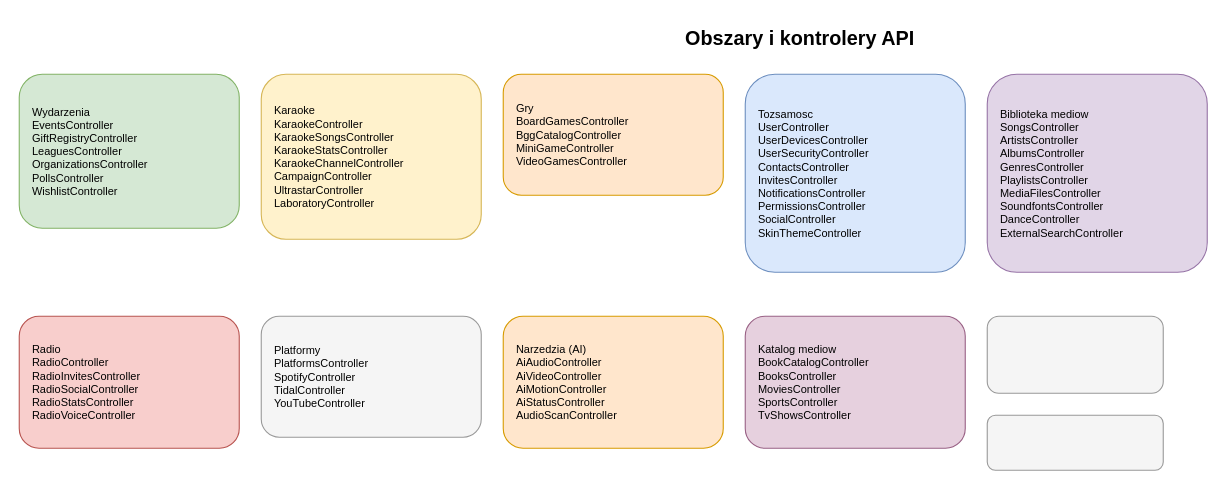
Image size: 1227x490. Some labels were removed from this diagram. The shapes that lost their labels are listed below. From the top down, each one's centre as x and y in pixels, then its label:
At (1074,354): "Administracja DiagramsController AdminHub".
At (1074,442): "Dostawca VendorController".
